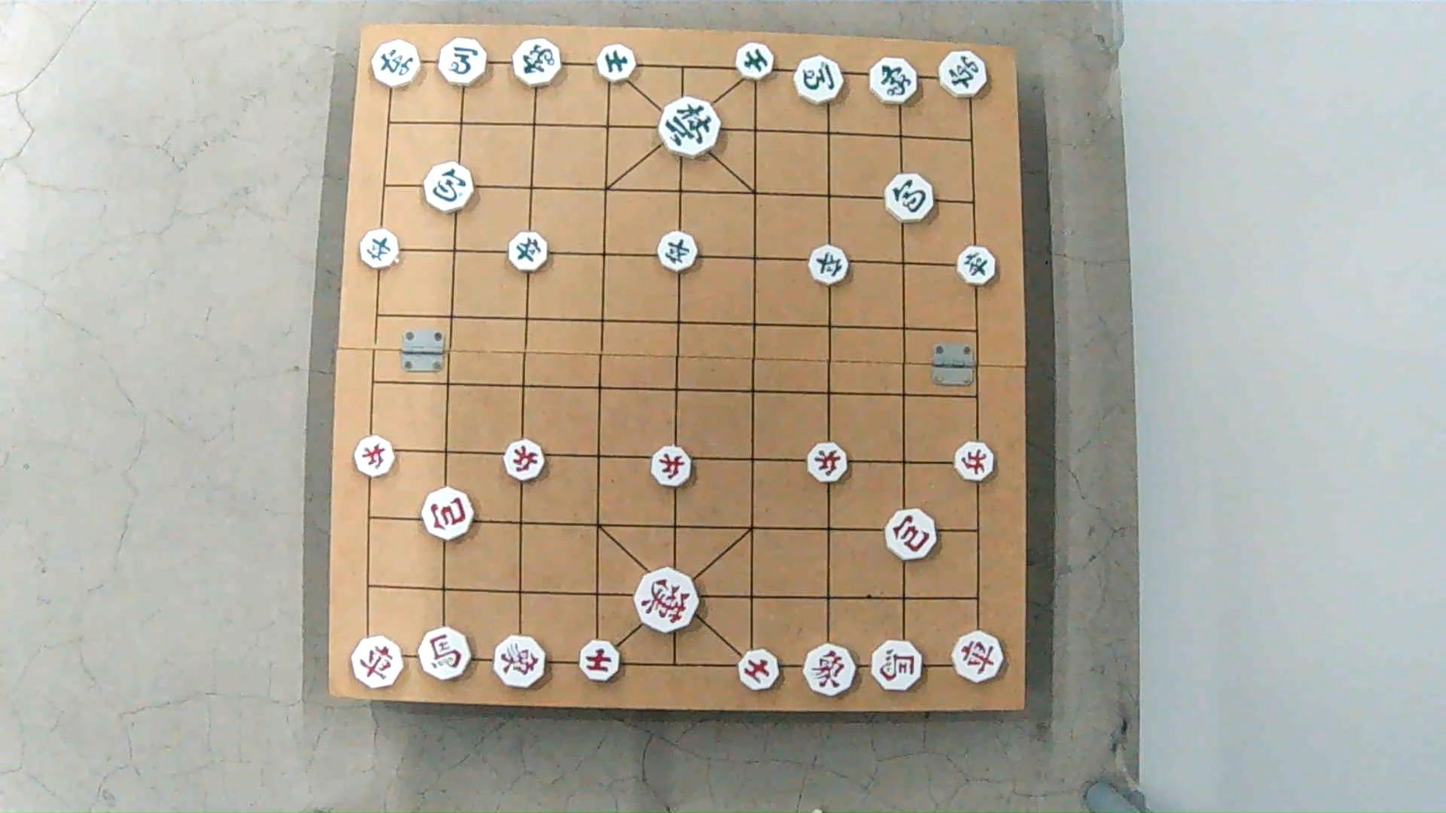cha_green: (938, 50, 989, 101), (370, 41, 423, 87)
cha_red: (349, 635, 406, 690), (952, 629, 1006, 682)
jol_green: (655, 233, 697, 272), (507, 232, 549, 270), (807, 247, 848, 285), (360, 230, 401, 266), (957, 248, 996, 285)
jol_red: (501, 440, 544, 480), (648, 447, 691, 486), (356, 438, 398, 477), (806, 444, 847, 483), (954, 443, 995, 481)
ma_green: (793, 56, 845, 104), (438, 39, 489, 84)
ma_red: (871, 639, 926, 692), (419, 630, 473, 681)
po_green: (421, 163, 471, 210), (883, 176, 933, 222)
po_red: (424, 491, 477, 540), (886, 510, 939, 559)
sa_green: (597, 45, 639, 81), (737, 43, 778, 78)
sa_red: (581, 639, 624, 685), (737, 647, 781, 690)
sang_green: (869, 58, 919, 108), (514, 40, 563, 88)
sang_red: (494, 635, 549, 688), (801, 645, 856, 698)
wang_green: (657, 101, 719, 157)
wang_red: (634, 574, 700, 633)
